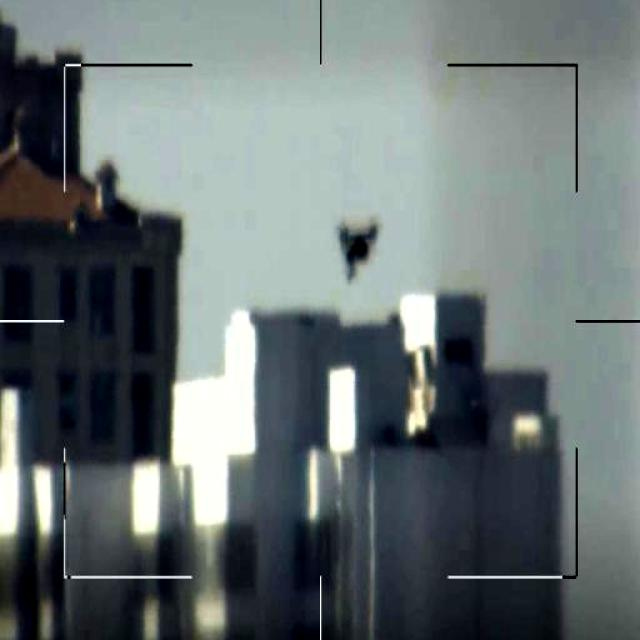bird: (332, 212, 382, 285)
